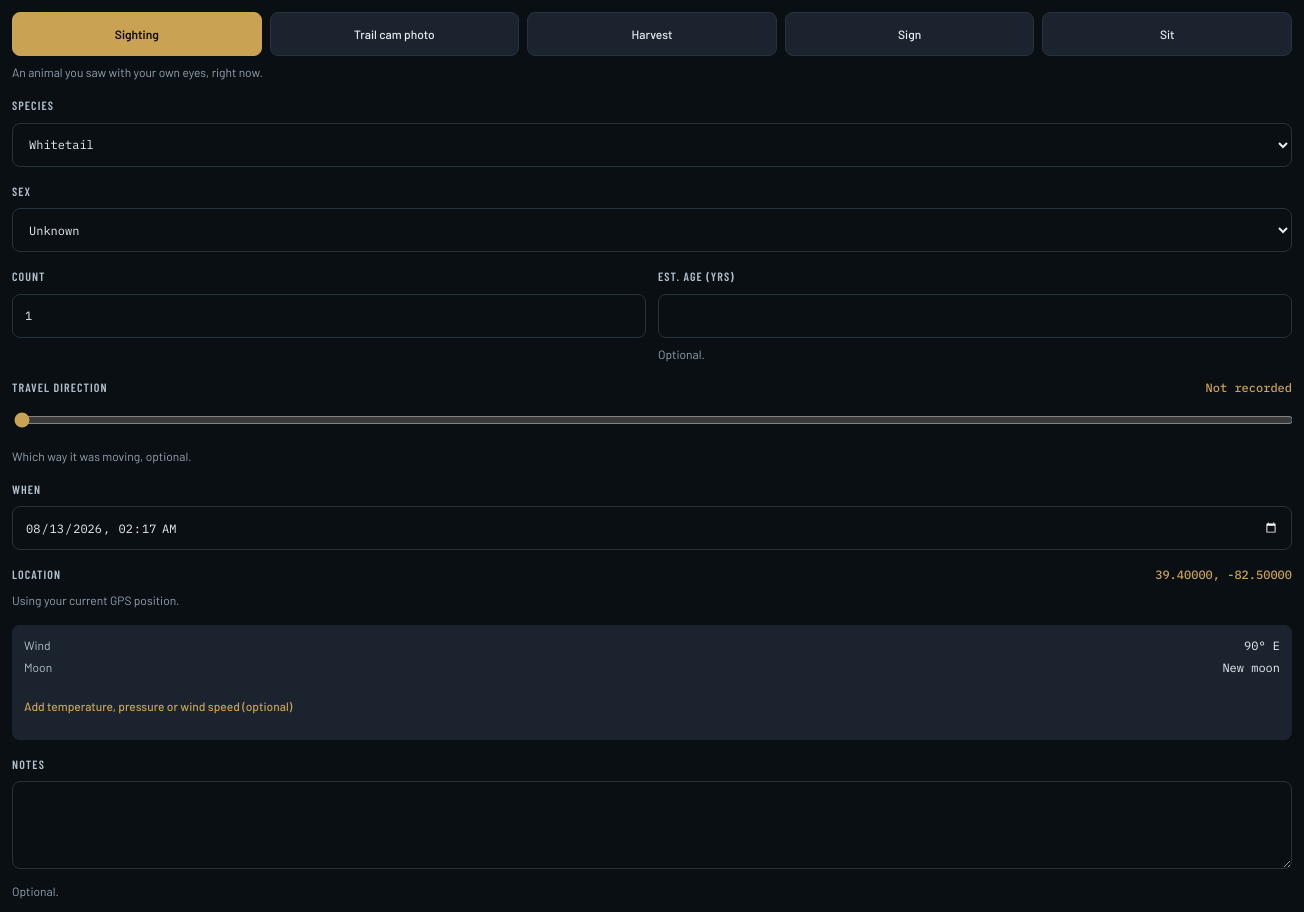
Test: ObservationForm — kind-aware fields (R5) › Sign shows a sign-type picker and no species grid
This screenshot has width=1304, height=912.
Step 1. Click the button with class "obs-kind-btn" showing "Sign" → (910, 34), box [785,12,1034,56]
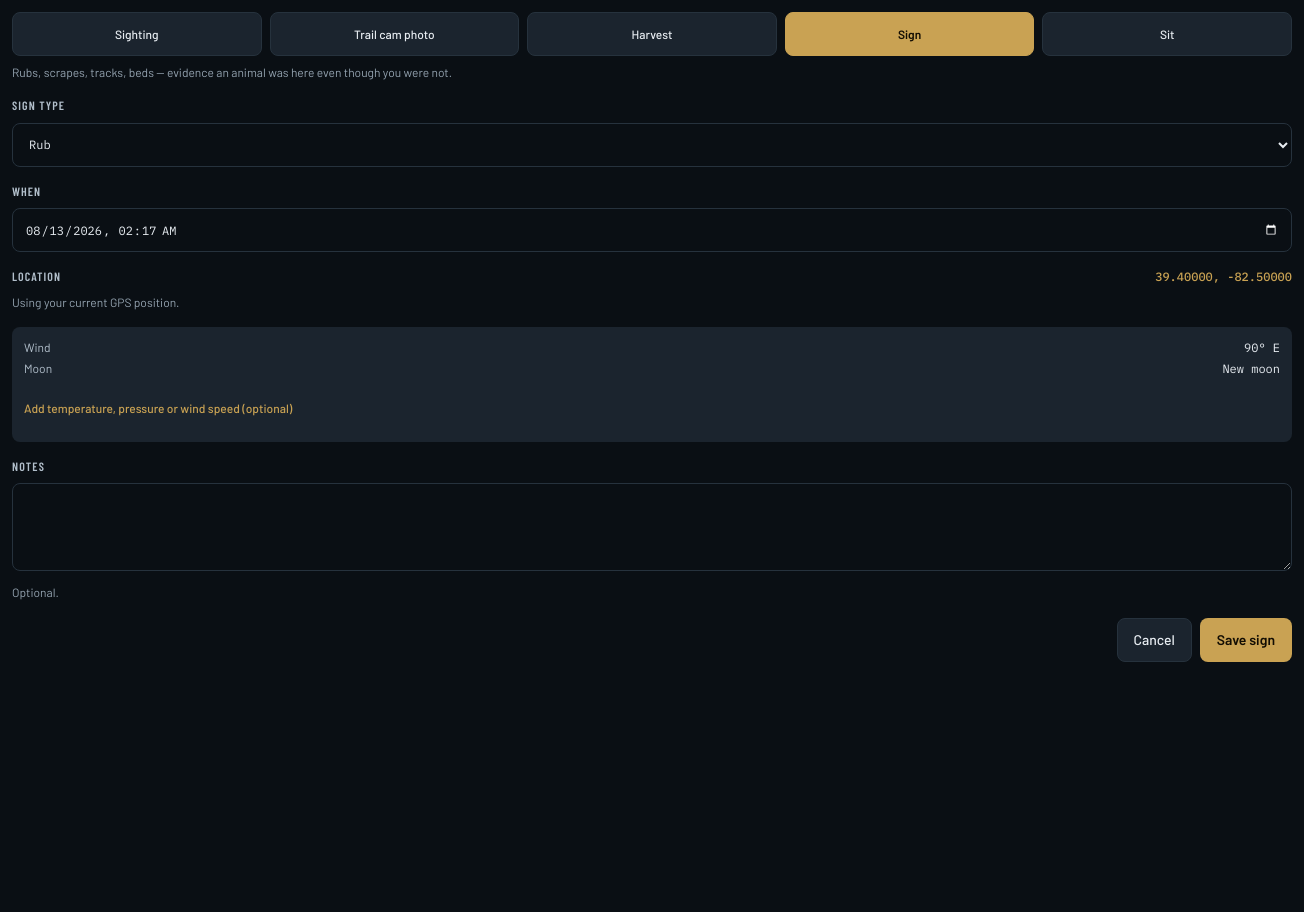
Check: the dropdown with id "obs-sign-type" is shown, box [12,123,1292,167]
Check: the label with id "obs-species" is gone
Check: the label with id "obs-travel-heading" is gone
